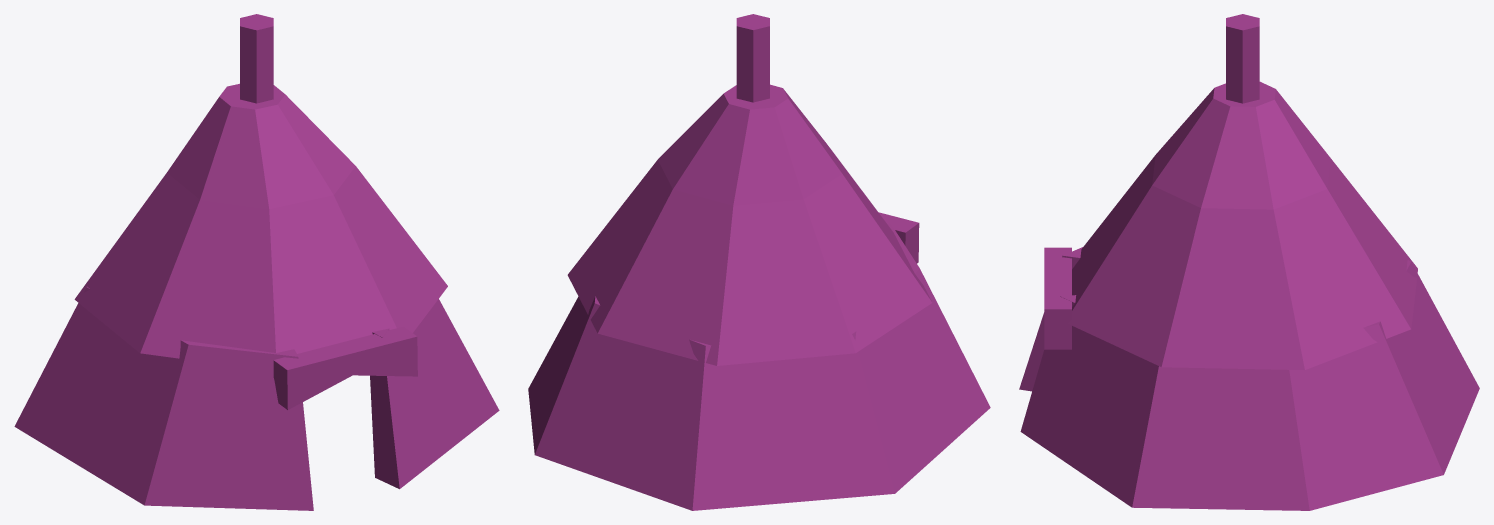
File: SM_Bld_Tent_Medium_03_Collision.fbx
The picture shows the model from 3 angles, left to right: view 1: azimuth 30°, elevation 25°; view 2: azimuth 150°, elevation 25°; view 3: azimuth 270°, elevation 25°; orthographic projection.
Visible parts, largest first — view 1: SM_Bld_Tent_Medium_03_Collision; view 2: SM_Bld_Tent_Medium_03_Collision; view 3: SM_Bld_Tent_Medium_03_Collision.
Part boxes in pixels (box(x1,y1,x2,y2)): SM_Bld_Tent_Medium_03_Collision: box(14, 14, 499, 510); SM_Bld_Tent_Medium_03_Collision: box(528, 14, 990, 510); SM_Bld_Tent_Medium_03_Collision: box(1019, 14, 1479, 510).
Bounding box in the file's own units: 754 × 733 × 777.
